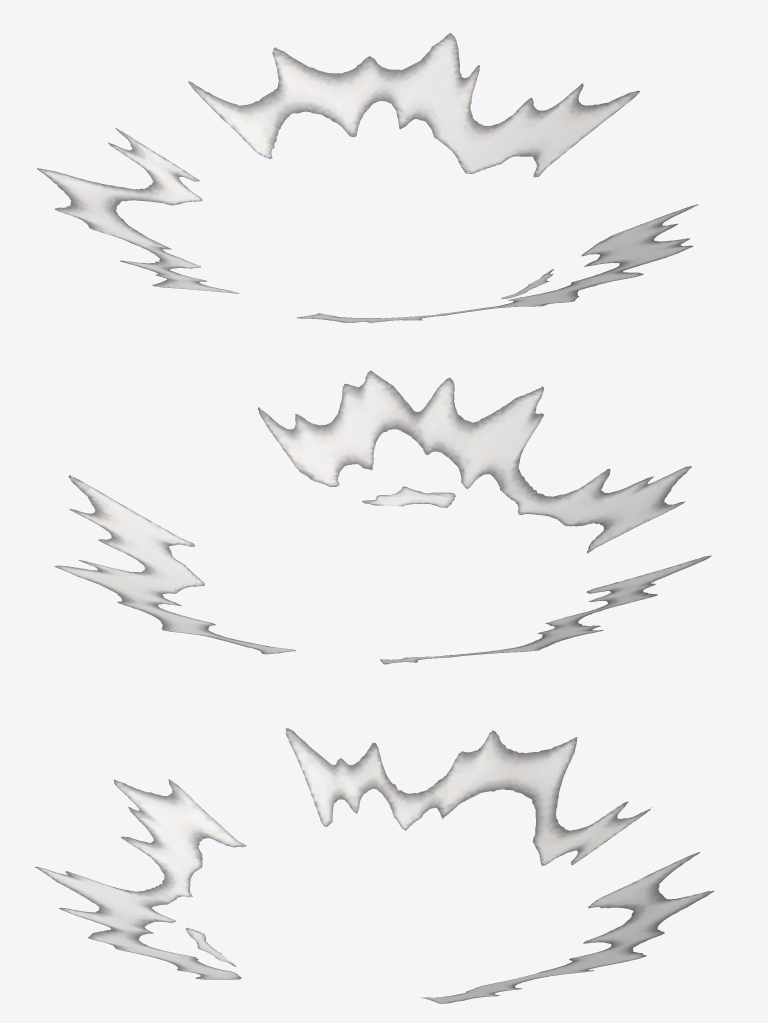
File: tianshi_jiaoyan.FBX
The picture shows the model from 3 angles, top to bottom: view 1: azimuth 30°, elevation 25°; view 2: azimuth 150°, elevation 25°; view 3: azimuth 270°, elevation 25°; orthographic projection.
Parts seen in each view (by area): view 1: Cone002; view 2: Cone002; view 3: Cone002.
Boxes of the visible parts, bbox=[...] form: Cone002: bbox=[37, 33, 698, 322]; Cone002: bbox=[54, 370, 711, 664]; Cone002: bbox=[35, 728, 713, 1003].
Size of the model in its own units: 226 by 23.59 by 226.
